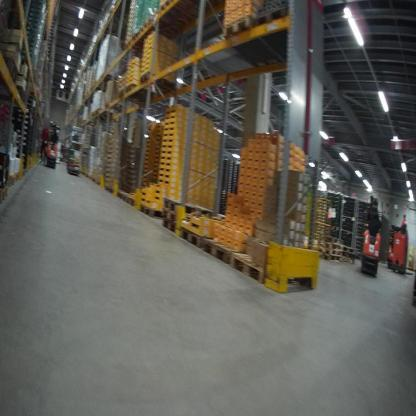pallets: (161, 211, 313, 297), (313, 236, 361, 264)
